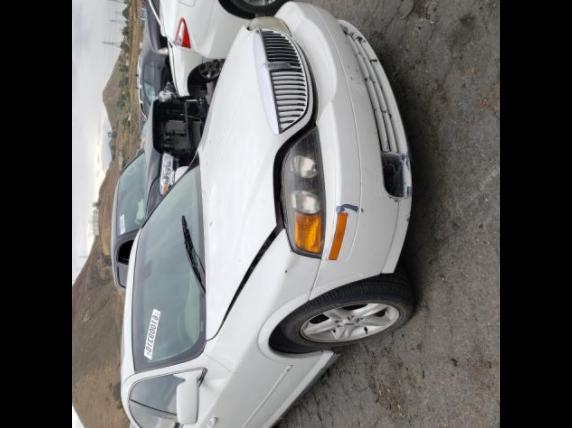Broken part: (215, 44, 320, 334)
Flaking: (340, 25, 391, 150), (287, 367, 290, 371)
Missing part: (381, 151, 405, 196)
Paint chip: (388, 186, 412, 201), (400, 150, 411, 171), (337, 202, 360, 212), (407, 211, 411, 221), (285, 267, 288, 271), (361, 209, 364, 212)
